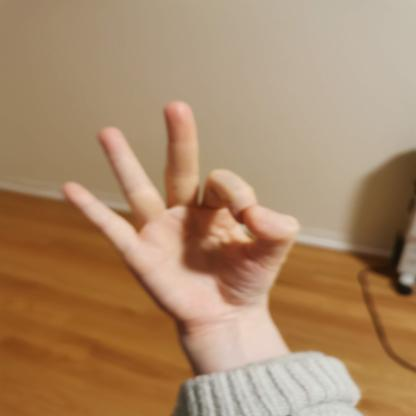nine: (51, 99, 307, 338)
